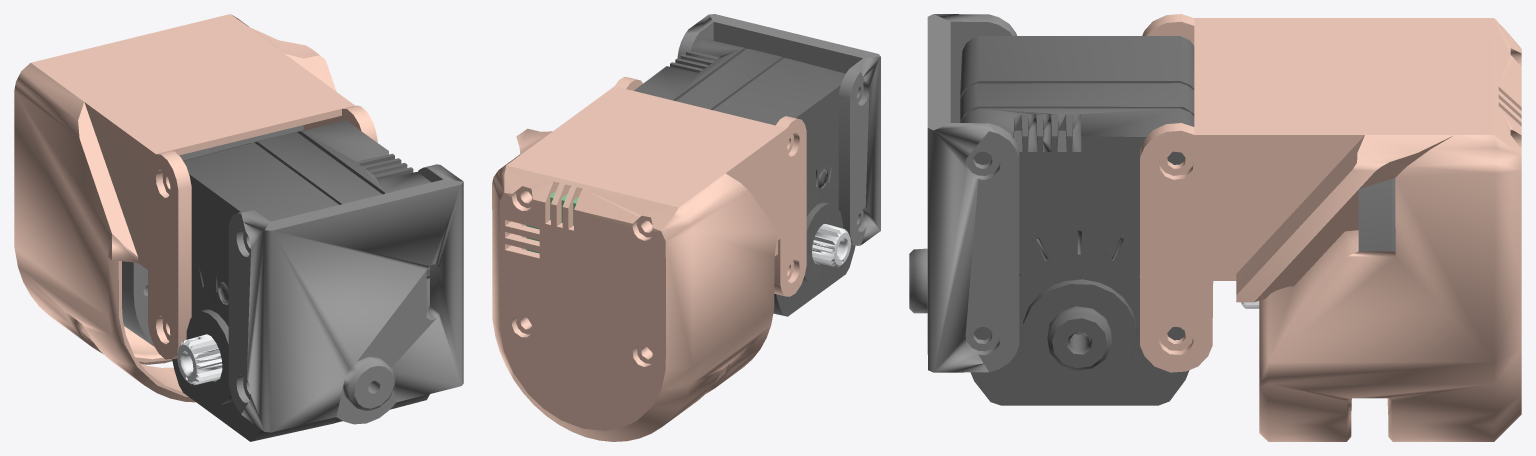
3 views of the same model, side by side, from view 1: azimuth 30°, elevation 25°; view 2: azimuth 150°, elevation 25°; view 3: azimuth 270°, elevation 25° (orthographic). The views are drawn at different scales.
Parts seen in each view (by area): view 1: node0, node7, node1, node5, node3; view 2: node0, node1, node7, node3; view 3: node0, node1, node7, node5.
Part boxes in pixels (x1,y1,x2,y2): node0: (14, 14, 377, 402); node7: (228, 164, 463, 432); node1: (172, 120, 431, 441); node5: (122, 125, 303, 346); node3: (177, 334, 222, 385); node0: (492, 77, 806, 441); node1: (634, 39, 855, 316); node7: (677, 14, 880, 245); node3: (812, 224, 850, 267); node0: (1140, 14, 1521, 441); node1: (960, 36, 1194, 405); node7: (909, 14, 1019, 372); node5: (1358, 178, 1395, 251).
Size of the model in its own units: 0.038 by 0.0665 by 0.0425.
